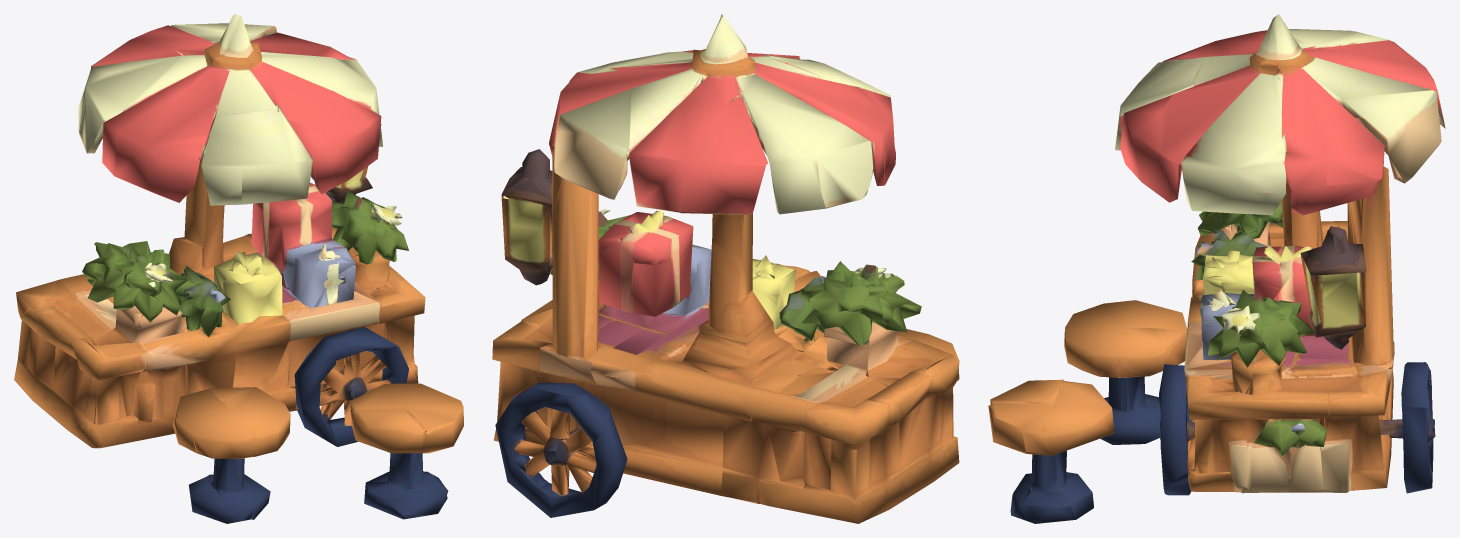
File: M-5_08_cafecart.glb
3 views of the same model, side by side, from view 1: azimuth 30°, elevation 25°; view 2: azimuth 150°, elevation 25°; view 3: azimuth 270°, elevation 25° (orthographic). The views are drawn at different scales.
Visible parts, largest first — view 1: cafecart; view 2: cafecart; view 3: cafecart.
Part boxes in pixels (x1=…): cafecart: x1=14, y1=14, x2=463, y2=523; cafecart: x1=492, y1=14, x2=959, y2=523; cafecart: x1=988, y1=14, x2=1445, y2=523.
Size of the model in its own units: 2.87 by 3.4 by 3.07.
Materials: 1 (1 with a texture image).
